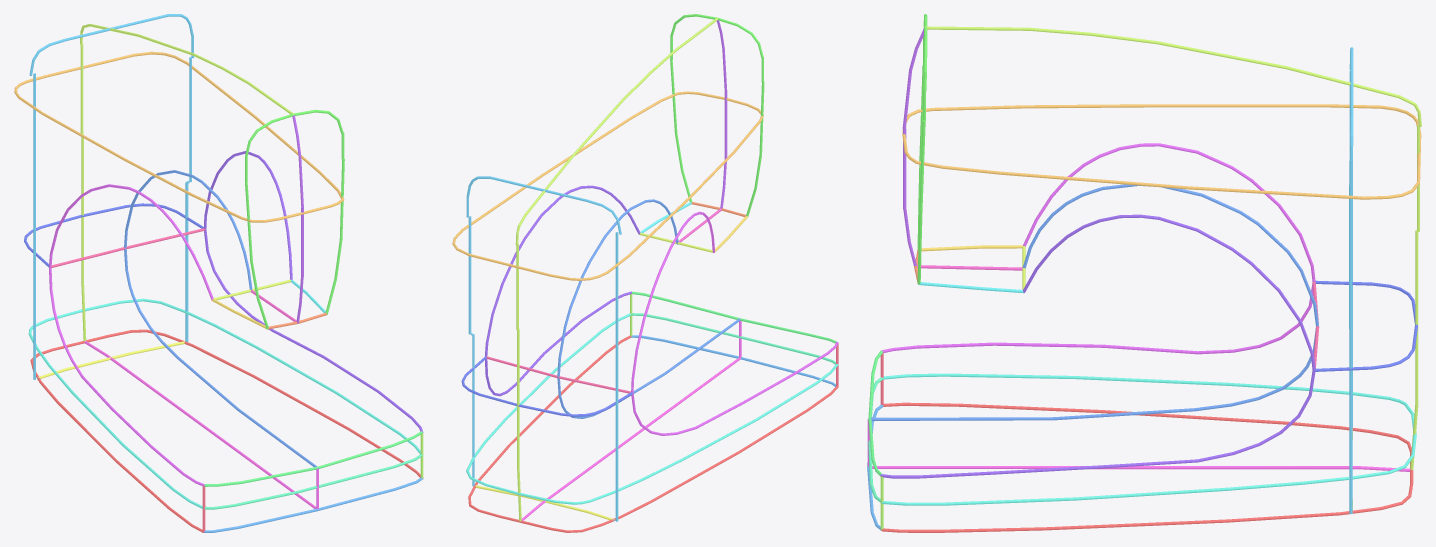
File: t2f_sewing_machine.gltf
3 renders of one model, left to right at view 1: azimuth 30°, elevation 25°; view 2: azimuth 150°, elevation 25°; view 3: azimuth 270°, elevation 25°, orthographic. The views are drawn at different scales.
Size of the model in its own units: 0.389 by 0.6149 by 0.6941.
